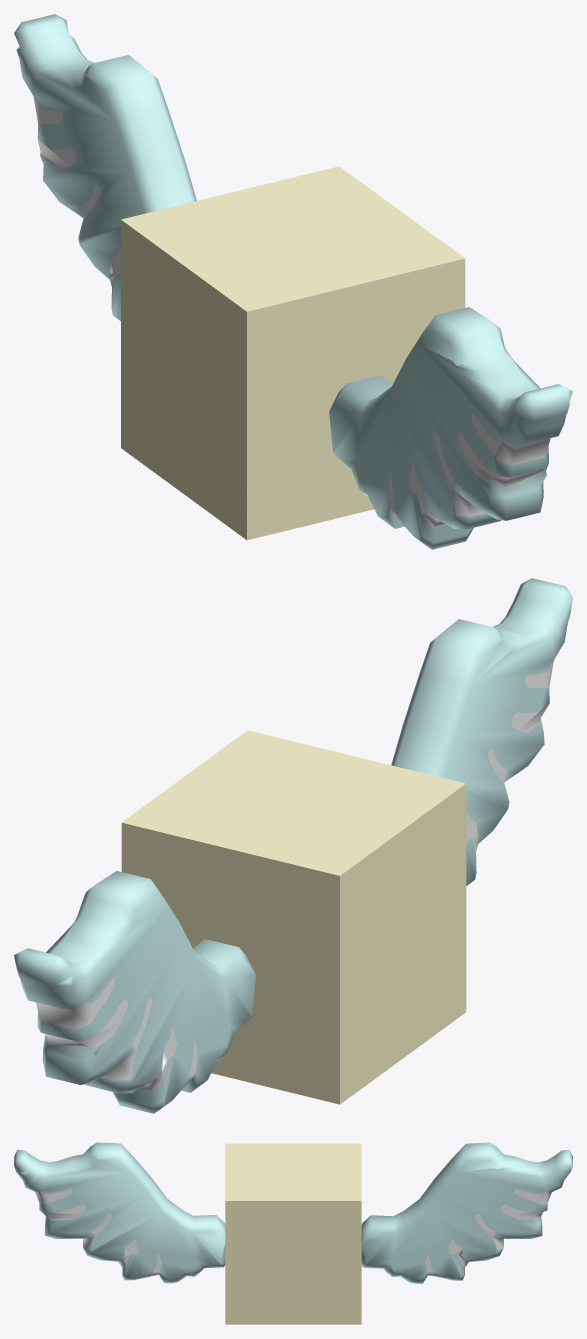
Rendered from item-leg.glb.
The picture shows the model from 3 angles, top to bottom: view 1: azimuth 30°, elevation 25°; view 2: azimuth 150°, elevation 25°; view 3: azimuth 270°, elevation 25°; orthographic projection. The views are drawn at different scales.
Size of the model in its own units: 1 by 1.2 by 4.1.
